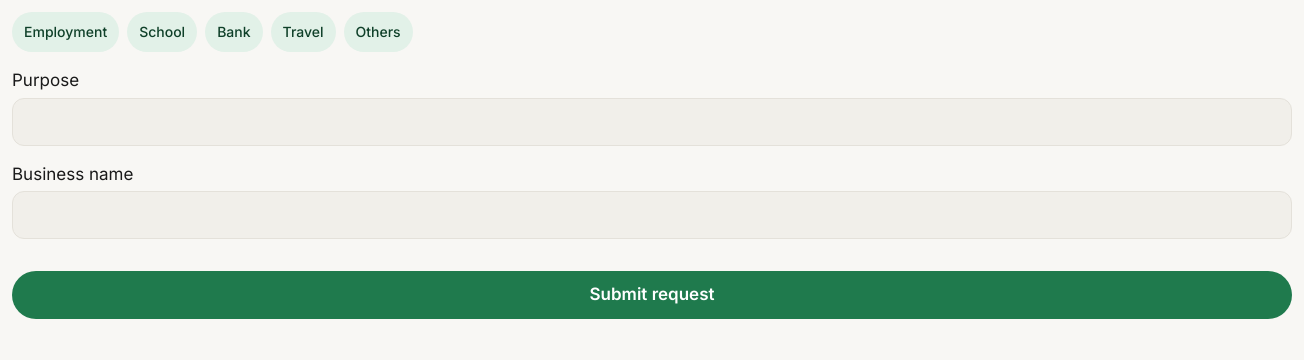
Test case: resident screens › shows the business name field only for Business Clearance and field errors from the API
expect the field labelled "Business name" is shown: met, box [12,191,1292,239]
In the field labelled "Purpose": (652, 122) [12,98,1292,146], type "New store"
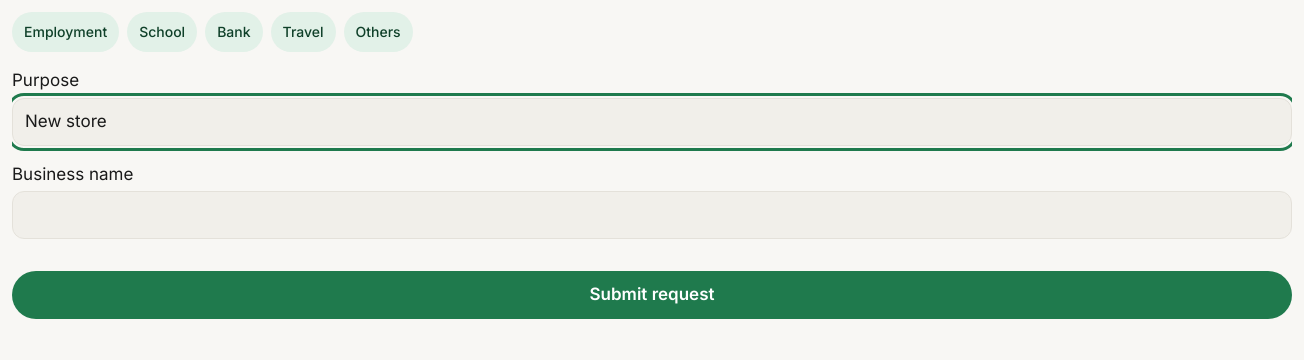
Click the button "Submit request": (652, 295) [12,271,1292,319]
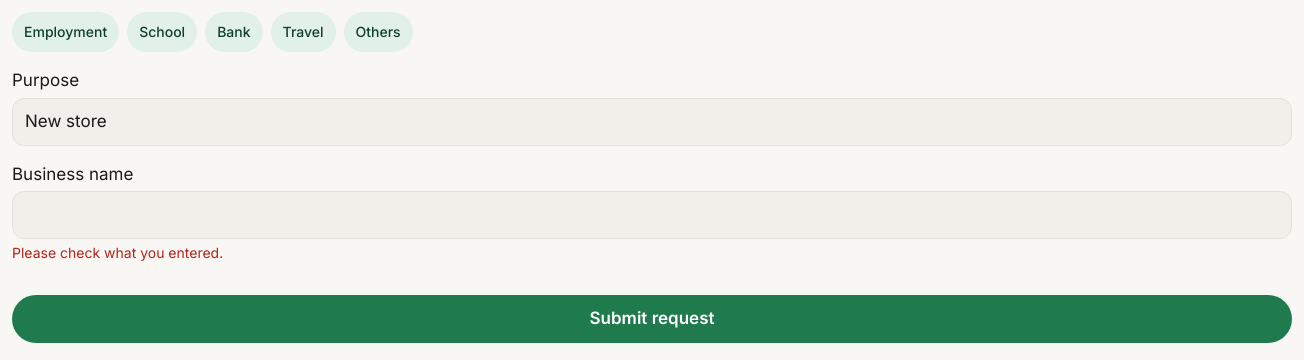
expect the text "Please check what you entered." is shown: met, box [12,244,223,261]
